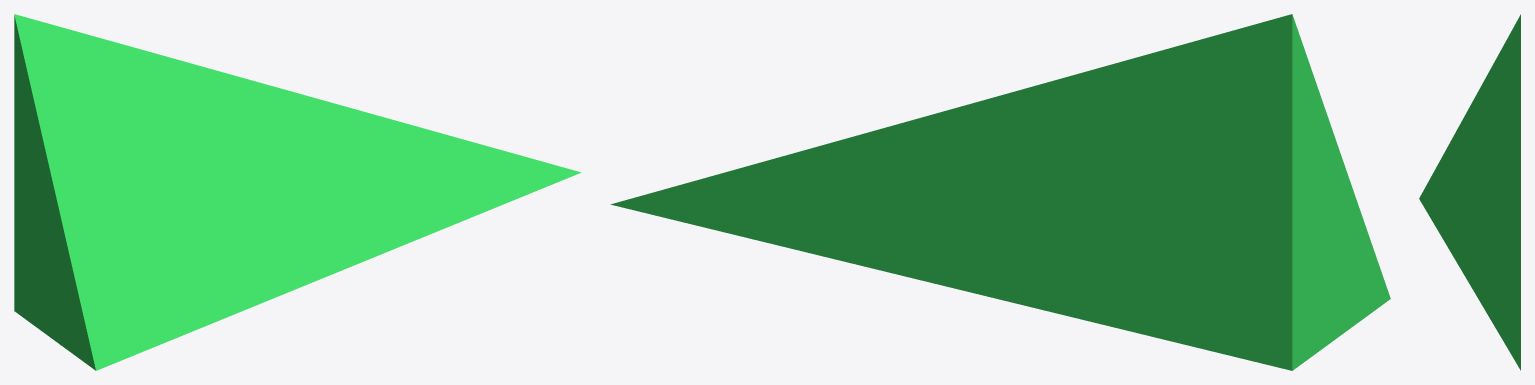
The model's file is wedge.glb.
3 renders of one model, left to right at view 1: azimuth 30°, elevation 25°; view 2: azimuth 150°, elevation 25°; view 3: azimuth 270°, elevation 25°, orthographic. The views are drawn at different scales.
Parts seen in each view (by area): view 1: wedge; view 2: wedge; view 3: wedge.
Part boxes in pixels (x1,y1,x2,y2): wedge: [14, 14, 581, 370]; wedge: [610, 14, 1390, 370]; wedge: [1419, 14, 1520, 370].
Bounding box in the file's own units: 4 × 2 × 1.
